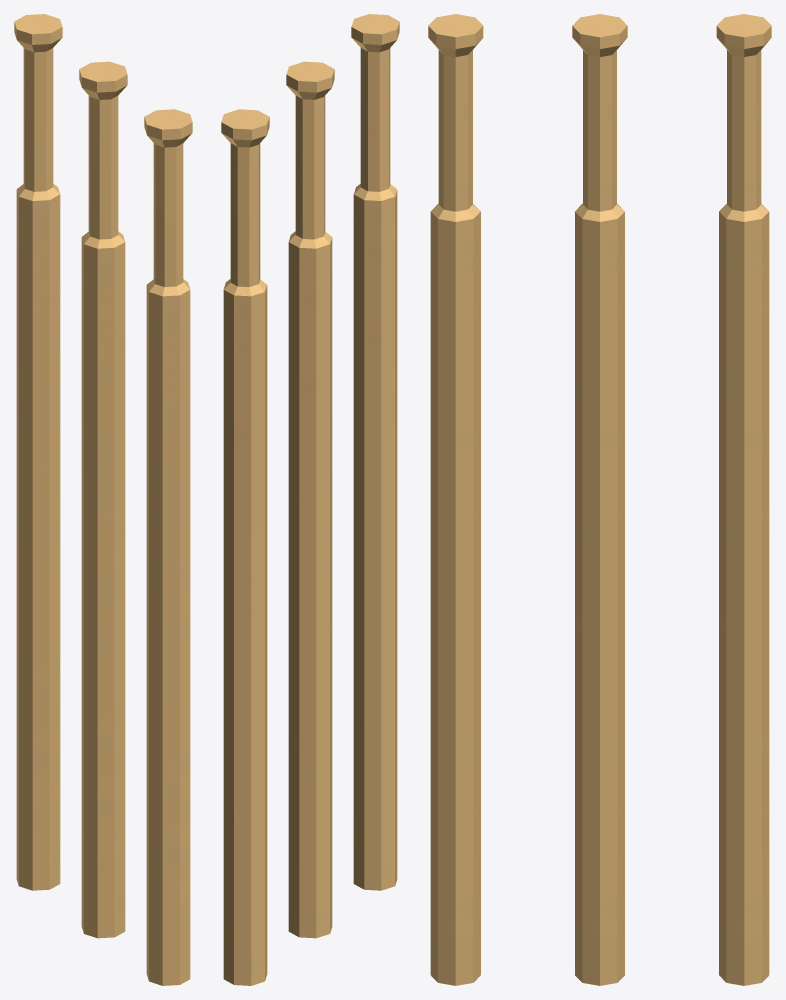
Rendered from Pillar-Restored.002.fbx.
The picture shows the model from 3 angles, left to right: view 1: azimuth 30°, elevation 25°; view 2: azimuth 150°, elevation 25°; view 3: azimuth 270°, elevation 25°; orthographic projection. The views are drawn at different scales.
Visible parts, largest first — view 1: Pillar-Restored.002; view 2: Pillar-Restored.002; view 3: Pillar-Restored.002.
Part boxes in pixels (box(x1,y1,x2,y2)): Pillar-Restored.002: box(14, 14, 192, 985); Pillar-Restored.002: box(221, 14, 399, 985); Pillar-Restored.002: box(428, 14, 771, 985).
Size of the model in its own units: 619 by 11749 by 3853.
